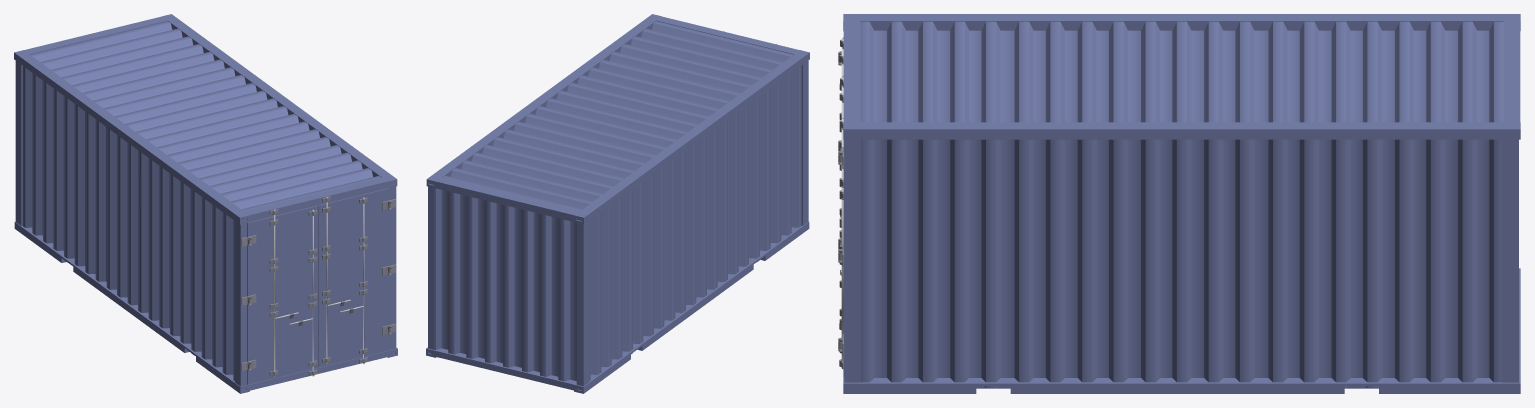
The model's file is container.glb.
The picture shows the model from 3 angles, left to right: view 1: azimuth 30°, elevation 25°; view 2: azimuth 150°, elevation 25°; view 3: azimuth 270°, elevation 25°; orthographic projection. The views are drawn at different scales.
Visible parts, largest first — view 1: BezierCurve.003; view 2: BezierCurve.003; view 3: BezierCurve.003.
Part boxes in pixels (x1,y1,x2,y2): BezierCurve.003: (14, 14, 397, 393); BezierCurve.003: (426, 14, 809, 393); BezierCurve.003: (838, 14, 1520, 393).
Size of the model in its own units: 0.9719 by 1.04 by 2.42.
